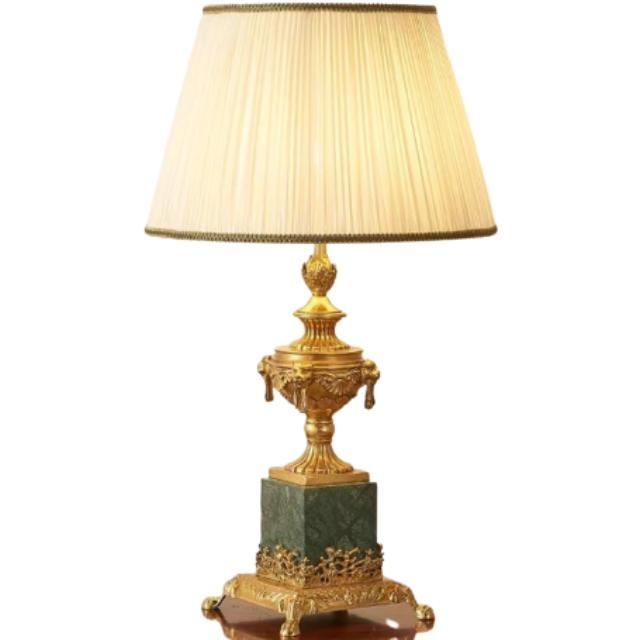lamp: (145, 6, 499, 640)
